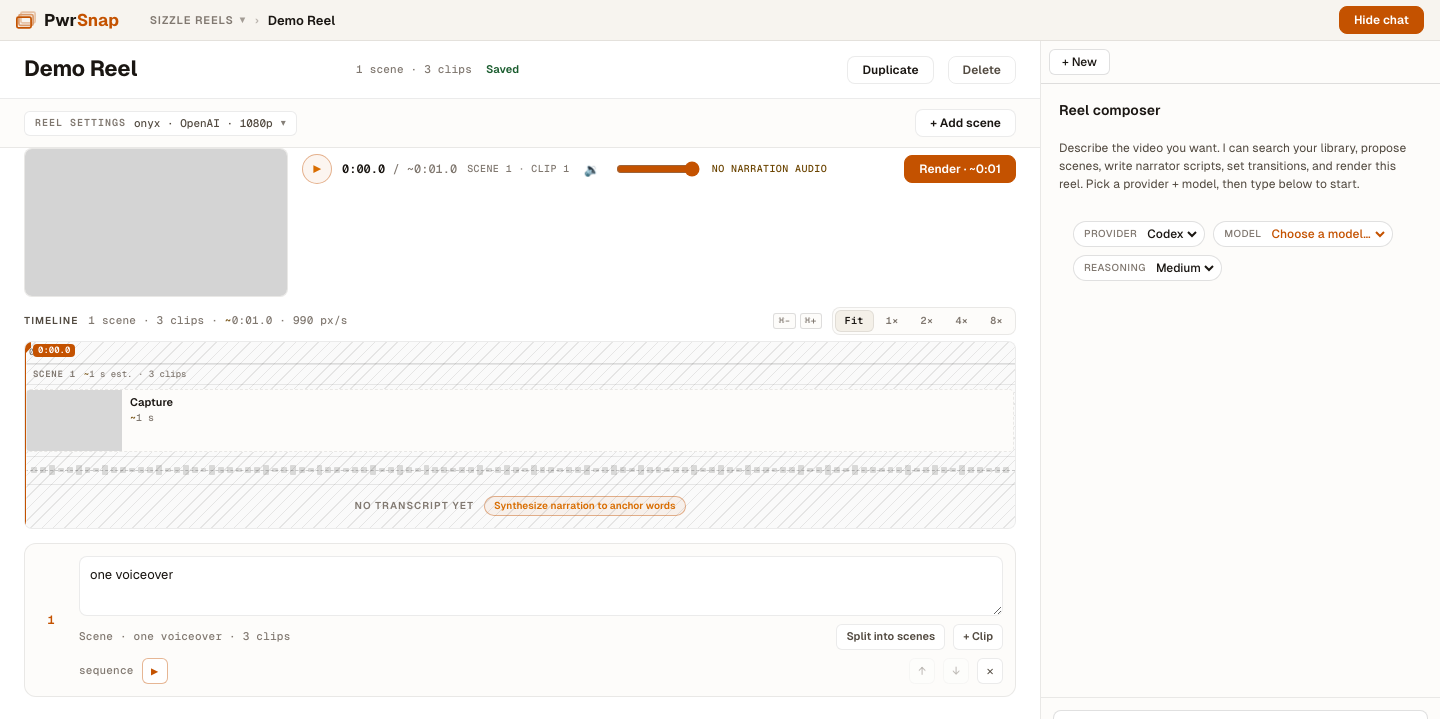
it: SizzleApp sequence authoring › Split into scenes gives every clip its own scene; the first keeps id + narration
This screenshot has width=1440, height=719.
Click the button with test id "sizzle-split-scene-sc_seq" at (891, 637), box [836, 624, 945, 650]
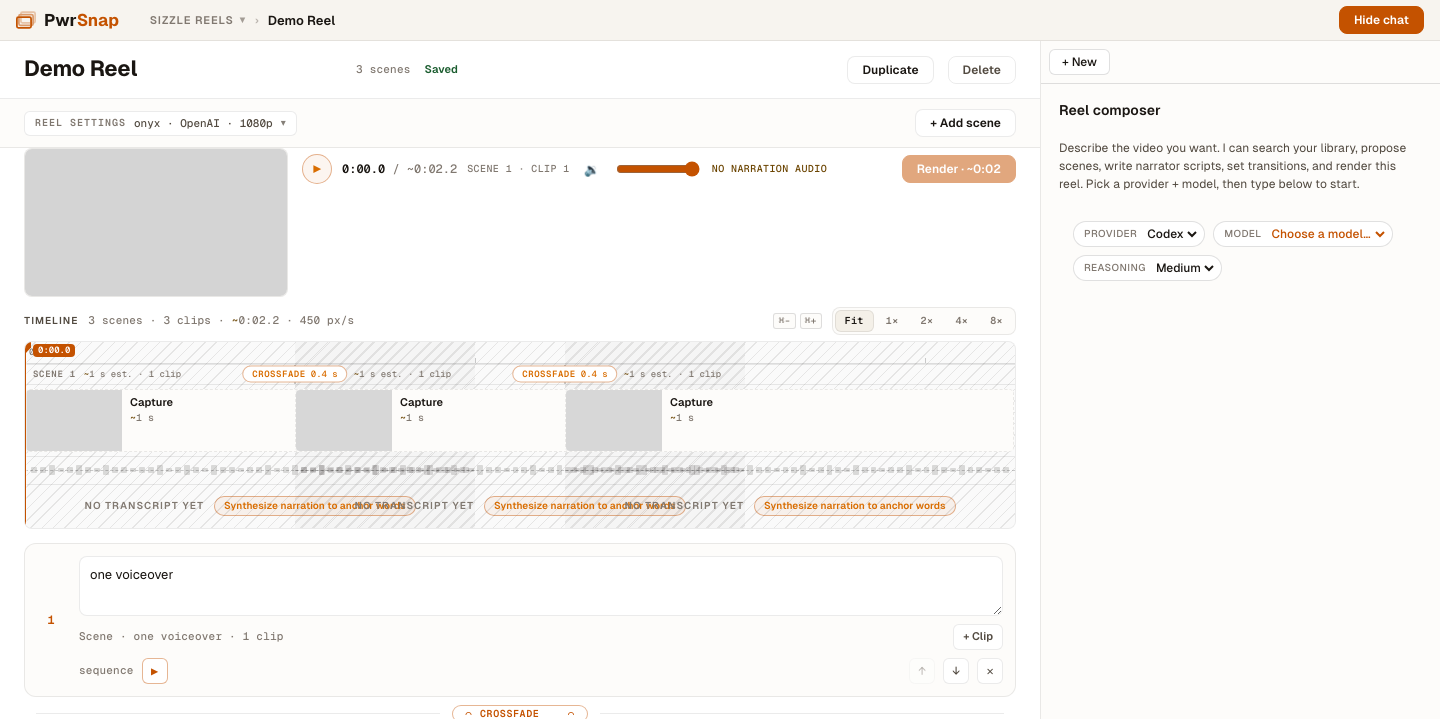
Expected: the button with test id "sizzle-split-scene-sc_seq" is gone
